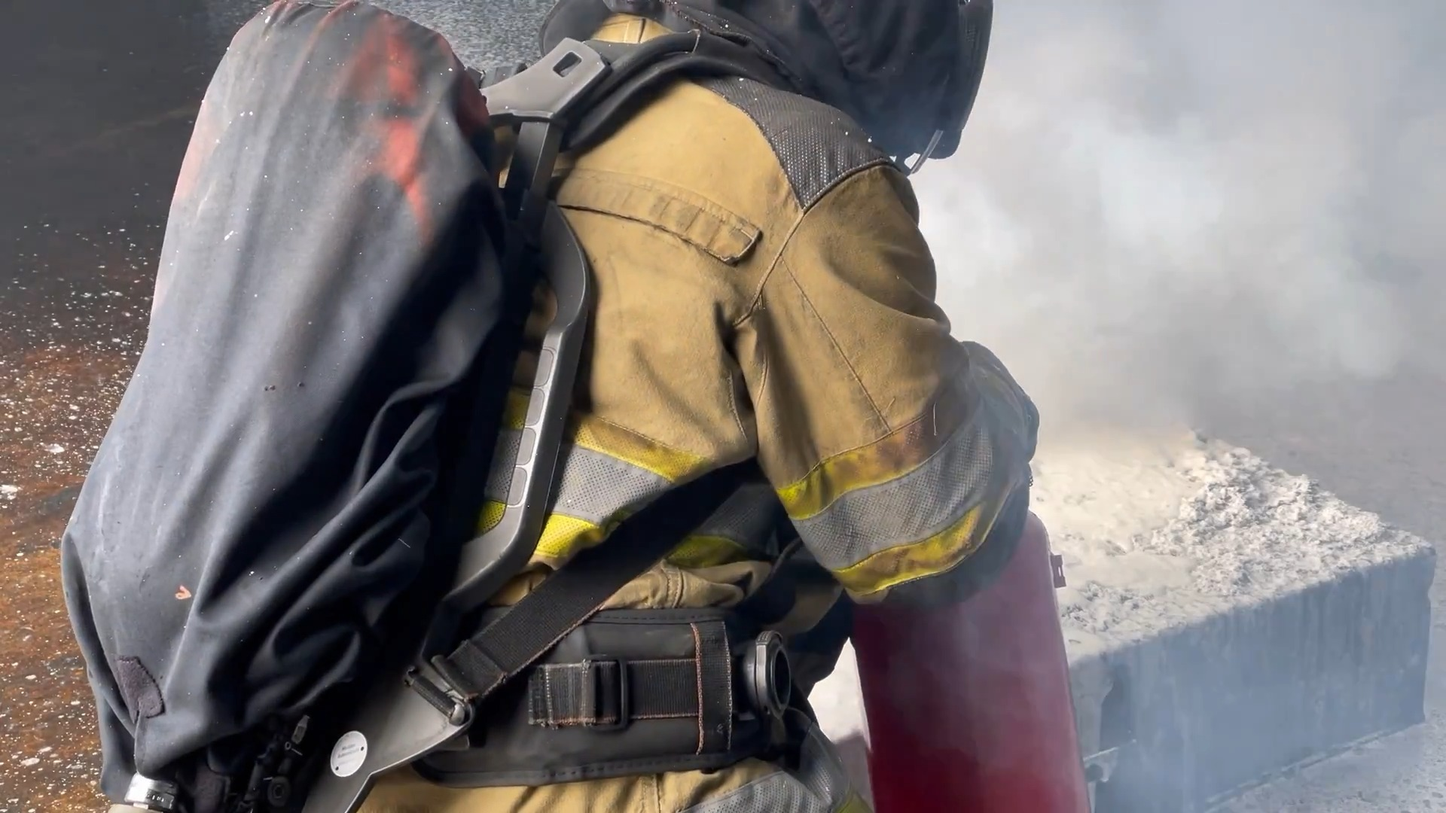smoke: (838, 23, 1432, 613)
